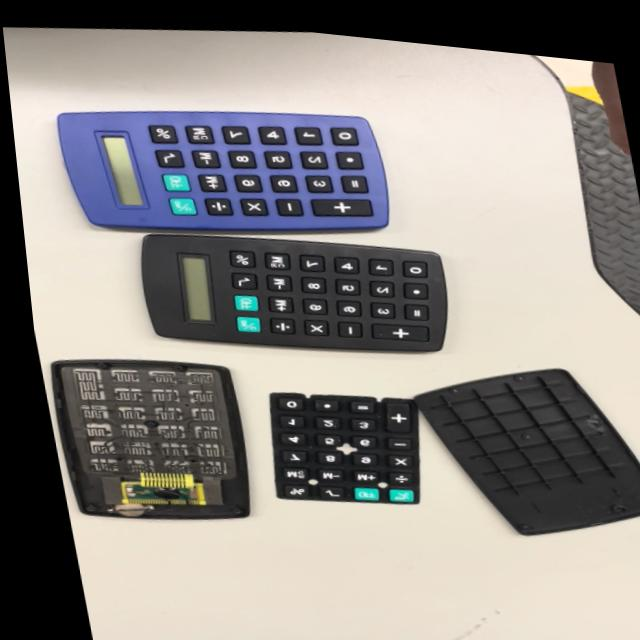back_cover: (415, 345, 640, 560)
calculator: (48, 78, 398, 261), (133, 209, 465, 380)
front_panel: (45, 340, 263, 543)
number_pad: (252, 380, 440, 523)
